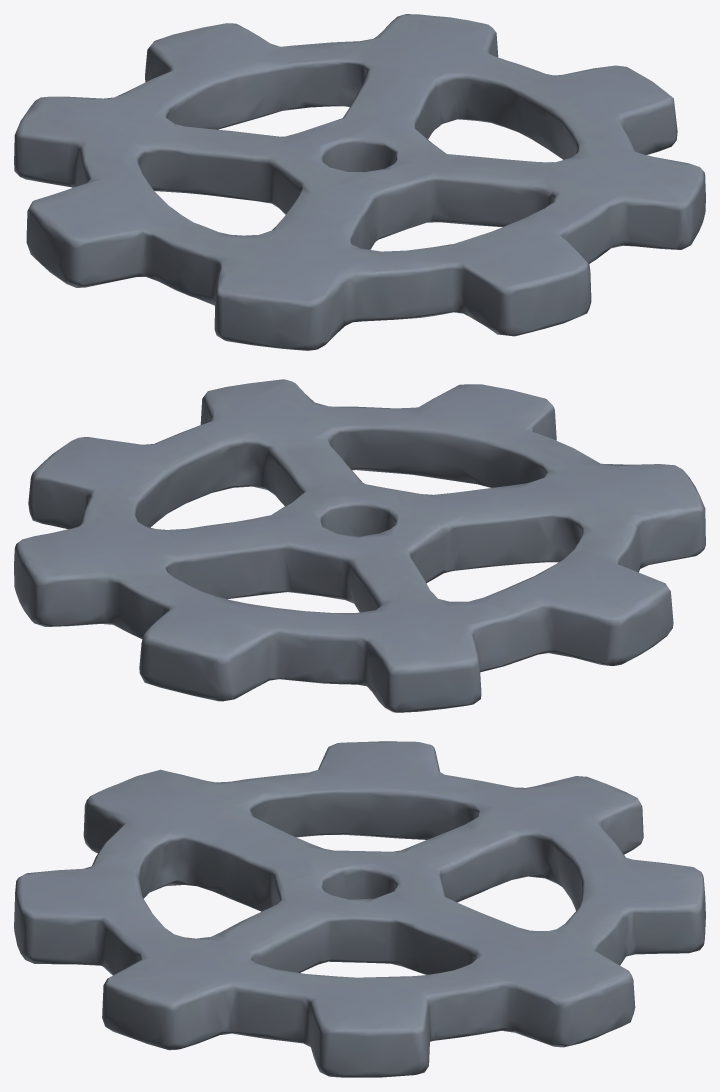
File: factory-gear-medium.glb
The picture shows the model from 3 angles, top to bottom: view 1: azimuth 30°, elevation 25°; view 2: azimuth 150°, elevation 25°; view 3: azimuth 270°, elevation 25°; orthographic projection.
Visible parts, largest first — view 1: gear; view 2: gear; view 3: gear.
Part boxes in pixels (x1,y1,x2,y2): gear: (14,14,705,350); gear: (14,379,705,712); gear: (14,741,705,1077).
Size of the model in its own units: 1.19 by 0.1023 by 1.18.
Materials: 1 (1 with a texture image).
